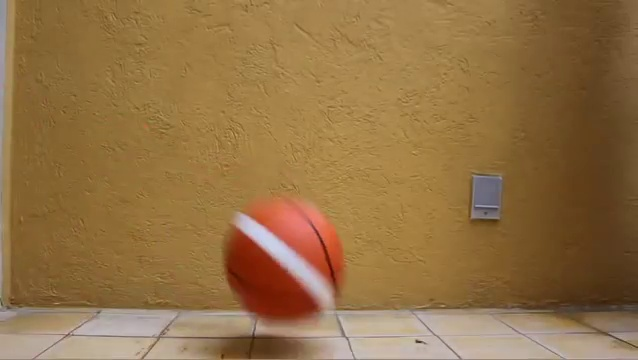ball: (219, 194, 345, 329)
